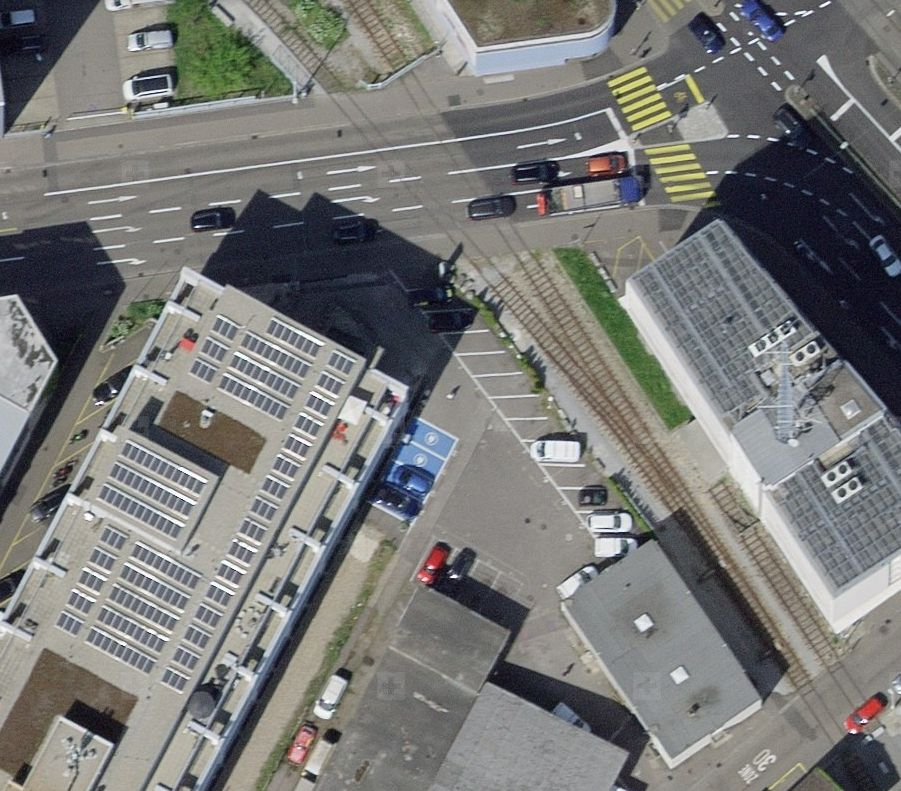solar: (52, 307, 357, 696)
